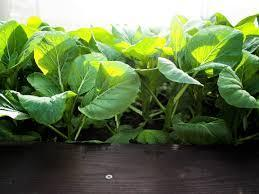Healthy-Pechay: (6, 14, 259, 140)
